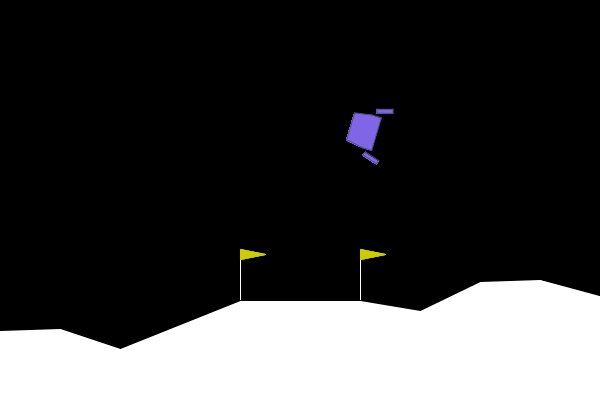lander: (339, 97, 395, 166)
